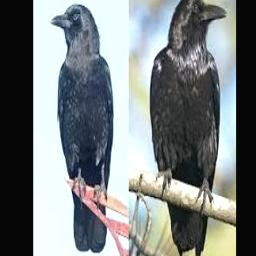Crow: (149, 0, 227, 256), (49, 2, 114, 252)
